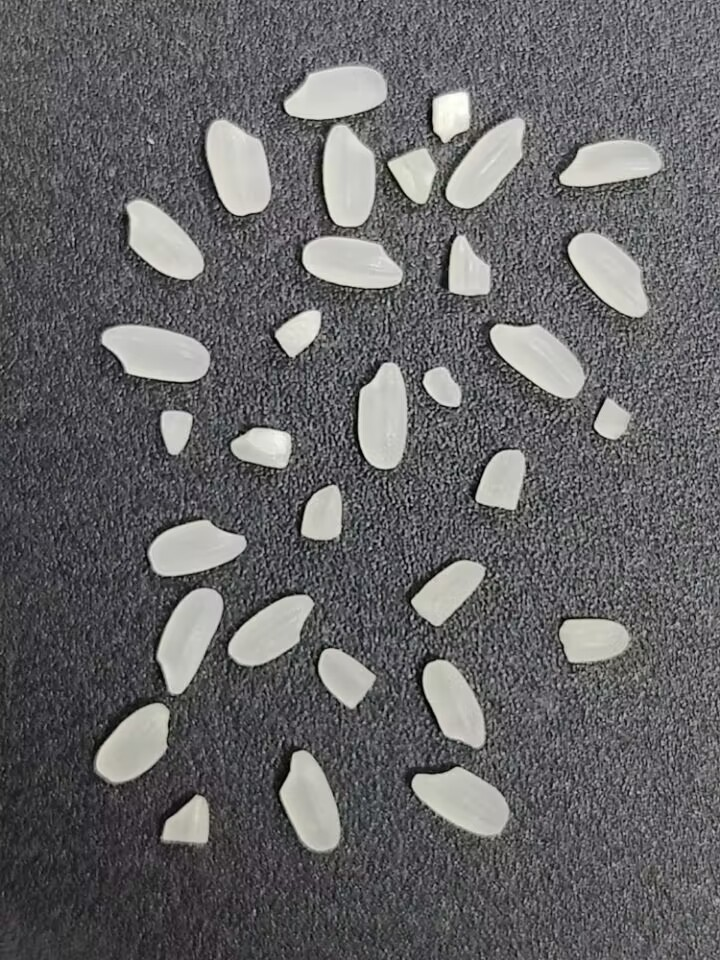broken: (410, 558, 485, 627), (469, 443, 542, 512), (442, 232, 502, 302), (384, 146, 446, 210), (224, 422, 298, 472), (318, 647, 375, 709), (271, 301, 326, 365), (558, 618, 630, 663), (425, 86, 478, 145), (417, 363, 471, 412), (160, 794, 210, 844), (300, 484, 343, 540), (158, 405, 198, 462), (593, 397, 631, 440)
rice: (440, 111, 536, 208), (115, 192, 210, 283), (92, 319, 211, 387), (486, 322, 587, 399), (313, 122, 382, 233), (201, 115, 273, 219), (155, 587, 224, 695), (408, 764, 511, 836), (567, 231, 649, 318), (415, 657, 490, 749), (226, 593, 316, 668), (279, 749, 342, 852), (94, 702, 171, 785), (355, 357, 411, 471), (280, 63, 393, 119), (300, 234, 408, 290), (147, 518, 249, 577), (558, 139, 662, 187)
